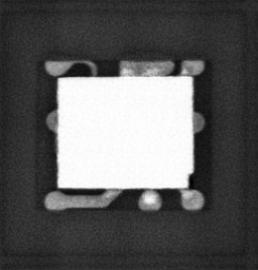DIE_BROKEN: (186, 172, 195, 191)
